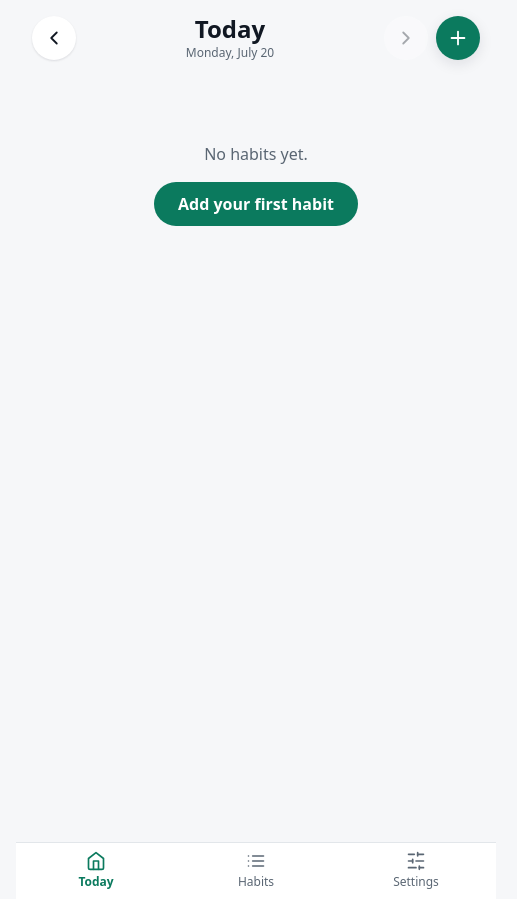
Test: tab links navigate between screens
Check: the navigation bar is shown, box [16,842,496,898]
Click the link "Settings".
click(416, 870)  # box [393,851,439,890]
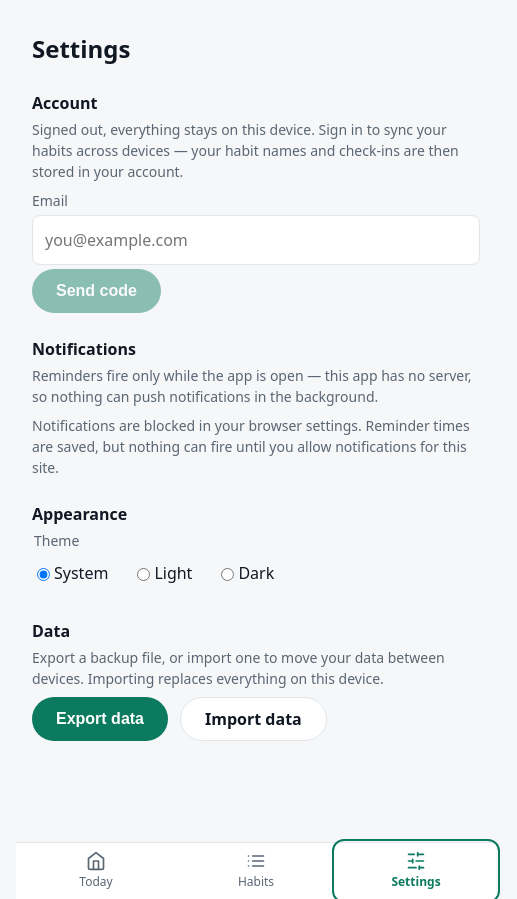
Check: the heading "Settings" is shown, box [32,32,130,65]
